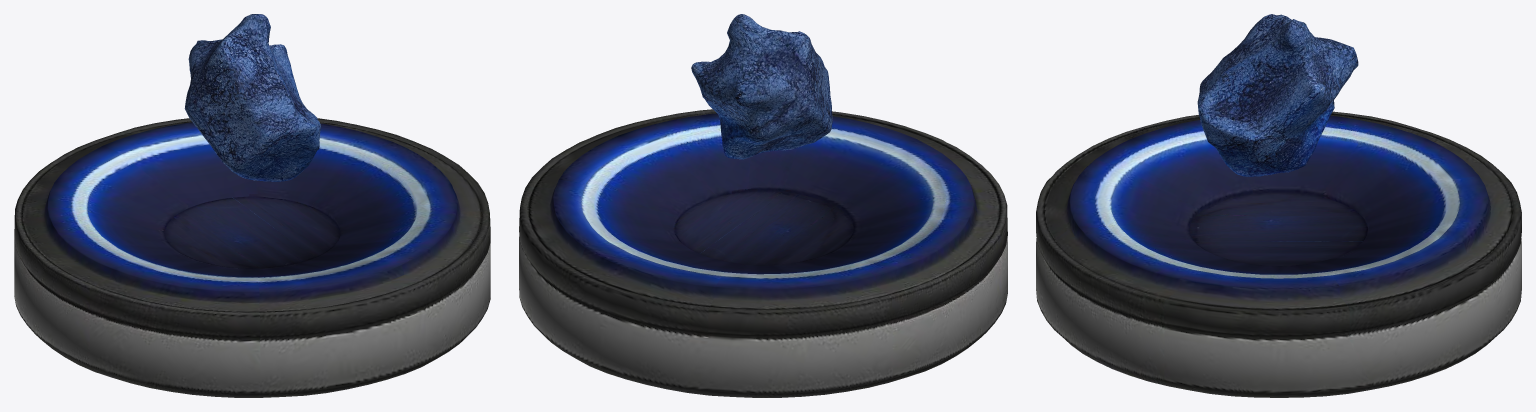
File: avatar_rock.glb
3 views of the same model, side by side, from view 1: azimuth 30°, elevation 25°; view 2: azimuth 150°, elevation 25°; view 3: azimuth 270°, elevation 25° (orthographic). The views are drawn at different scales.
Parts seen in each view (by area): view 1: tripo_node_7979e12a-dde8-4dfe-abf5-bb75239ac9a5; view 2: tripo_node_7979e12a-dde8-4dfe-abf5-bb75239ac9a5; view 3: tripo_node_7979e12a-dde8-4dfe-abf5-bb75239ac9a5.
Part boxes in pixels (x1,y1,x2,y2): tripo_node_7979e12a-dde8-4dfe-abf5-bb75239ac9a5: (14, 14, 490, 397); tripo_node_7979e12a-dde8-4dfe-abf5-bb75239ac9a5: (519, 14, 1007, 397); tripo_node_7979e12a-dde8-4dfe-abf5-bb75239ac9a5: (1036, 14, 1521, 397).
Bounding box in the file's own units: 0.998 × 0.6426 × 0.998.
1 material, 1 textured.
